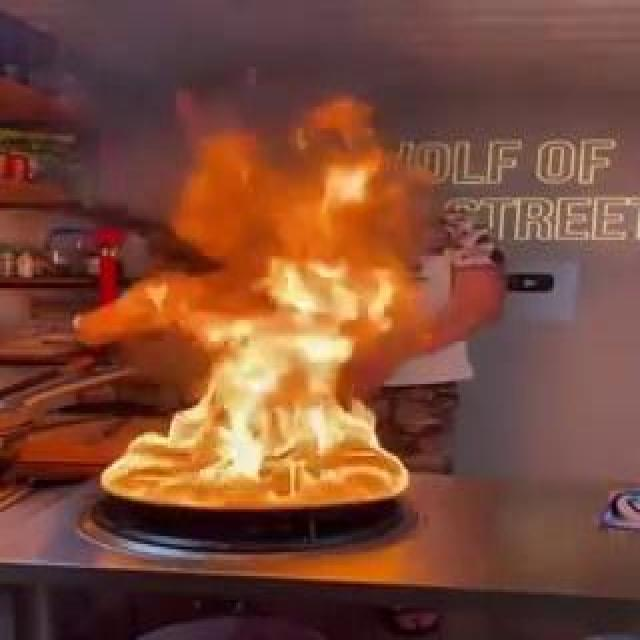Fire: (260, 330, 354, 350)
